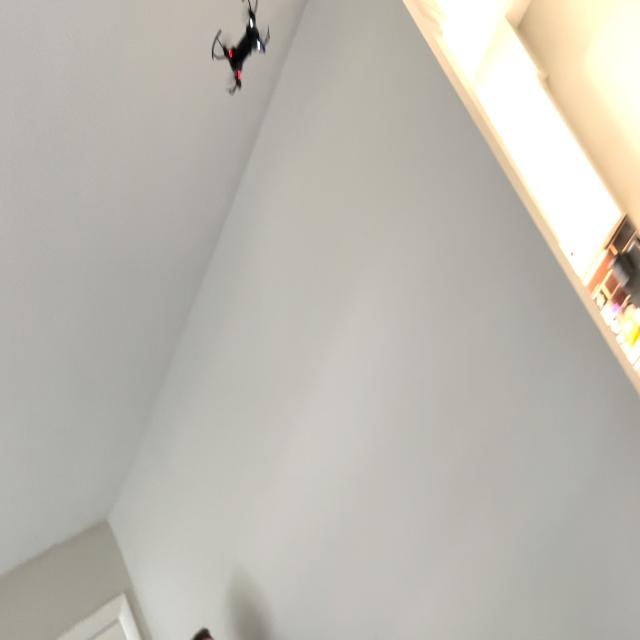drone: (206, 0, 278, 101)
